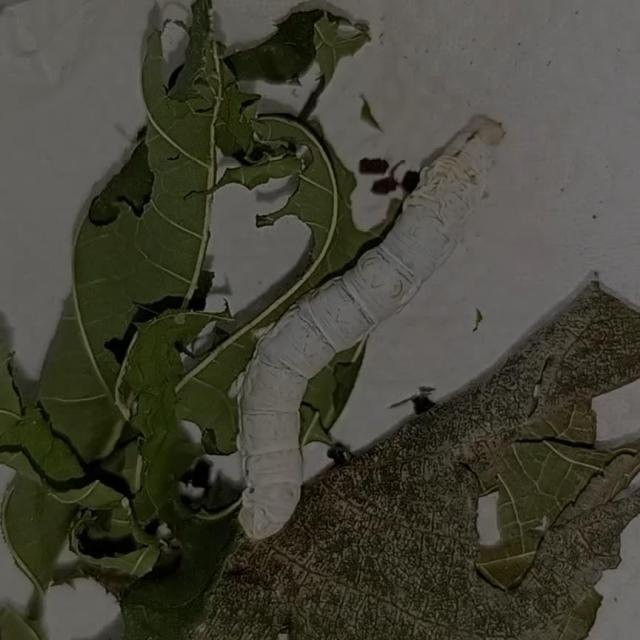Healthy: (181, 98, 554, 554)
